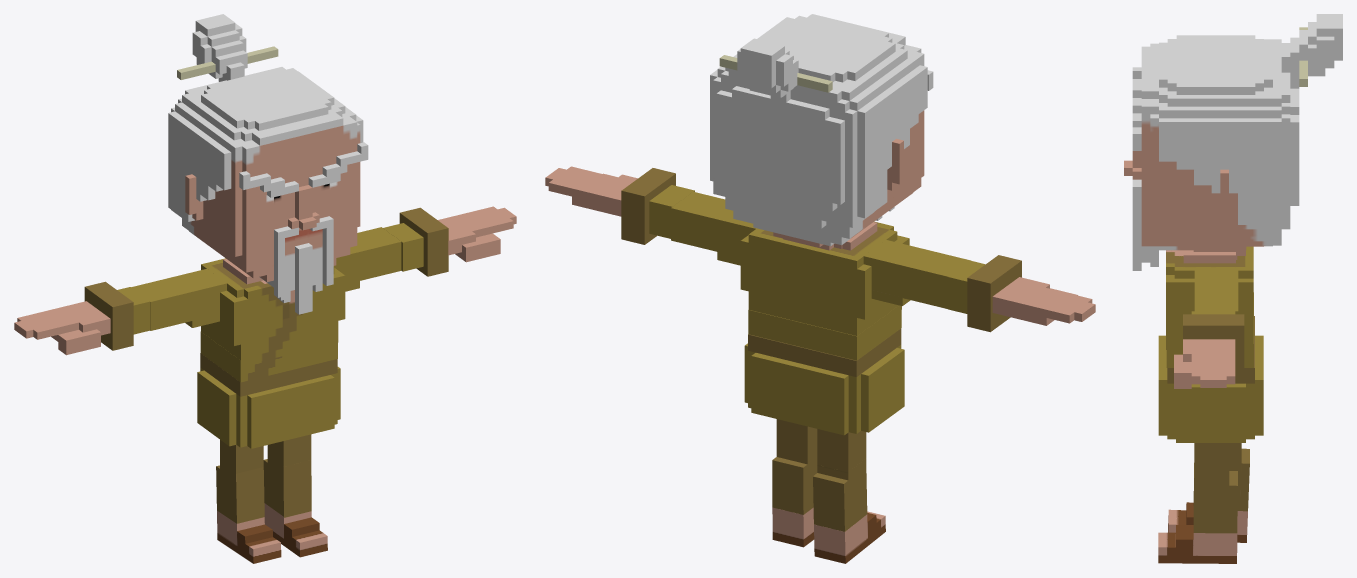
The model's file is chinese_new_rig.fbx.
The picture shows the model from 3 angles, left to right: view 1: azimuth 30°, elevation 25°; view 2: azimuth 150°, elevation 25°; view 3: azimuth 270°, elevation 25°; orthographic projection. The views are drawn at different scales.
Visible parts, largest first — view 1: Head-Local, Hips-Local, low torso-Local, Arm 1-Local, Hand (1)-Local, Low arm-Local, Low arm (1)-Local, Hand-Local, Arm 2-Local, Node-Local, Low leg 1-Local, Low leg 1 (1)-Local (+4 smaller); view 2: Head-Local, Hips-Local, low torso-Local, Arm 1-Local, Node-Local, Arm 2-Local, Low arm-Local, Low arm (1)-Local, Hand (1)-Local, Low leg 1-Local, Hand-Local, foot 1-Local (+4 smaller); view 3: Head-Local, Hips-Local, low torso-Local, Hand-Local, foot 1 (1)-Local, Low leg 1 (1)-Local, Low arm-Local, Arm 2-Local, leg 2-Local, foot 1-Local, Low leg 1-Local, Node-Local.
Boxes of the visible parts, x1,y1,x2,y2 form: Head-Local: (168,14,368,314); Hips-Local: (197,353,340,448); low torso-Local: (201,258,345,366); Arm 1-Local: (131,269,226,330); Hand (1)-Local: (14,301,110,355); Low arm-Local: (383,207,448,276); Low arm (1)-Local: (84,281,150,350); Hand-Local: (438,206,516,262); Arm 2-Local: (333,227,401,291); Node-Local: (200,331,337,382); Low leg 1-Local: (216,462,264,523); Low leg 1 (1)-Local: (263,459,311,517); Head-Local: (710,14,933,247); Hips-Local: (744,328,904,435); low torso-Local: (740,221,909,335); Arm 1-Local: (863,240,970,308); Node-Local: (748,305,901,360); Arm 2-Local: (671,191,756,265); Low arm-Local: (621,168,694,244); Low arm (1)-Local: (948,255,1021,332); Hand (1)-Local: (992,277,1095,325); Low leg 1-Local: (813,458,867,531); Hand-Local: (545,166,637,216); foot 1-Local: (814,511,885,563); Head-Local: (1124,14,1342,270); Hips-Local: (1158,316,1263,442); low torso-Local: (1166,246,1253,349); Hand-Local: (1174,339,1235,388); foot 1 (1)-Local: (1158,525,1237,563); Low leg 1 (1)-Local: (1193,463,1237,533); Low arm-Local: (1183,311,1244,373); Arm 2-Local: (1194,270,1238,314); leg 2-Local: (1194,443,1229,485); foot 1-Local: (1168,502,1247,542); Low leg 1-Local: (1229,448,1249,511); Node-Local: (1166,292,1253,367).
Bounding box in the file's own units: 6988 × 6629 × 2500.
Materials: 17 (17 with a texture image).
